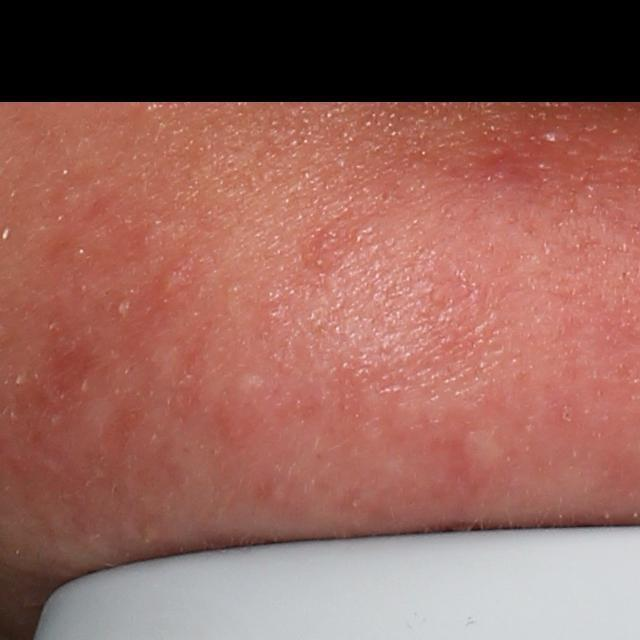hypertrophic_scar: (55, 393, 118, 463), (459, 428, 510, 490)
